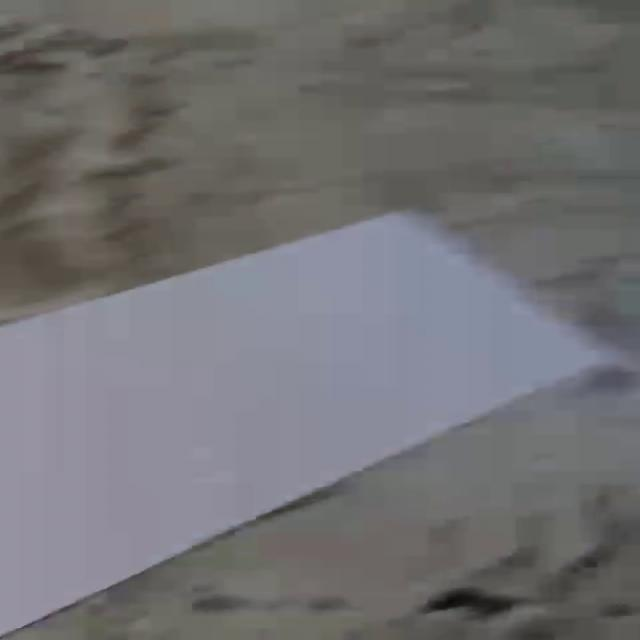road: (0, 211, 607, 638)
